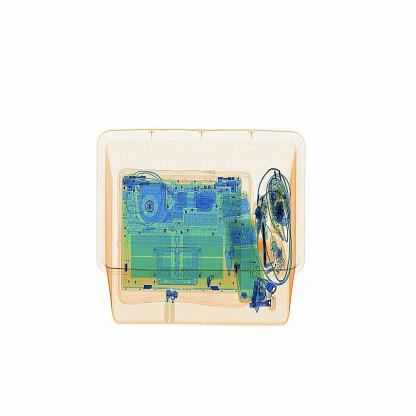knife: (254, 214, 280, 270)
